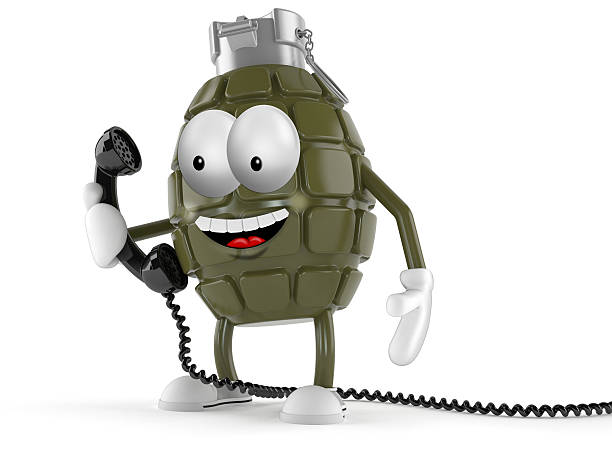e1: (169, 8, 376, 320)
